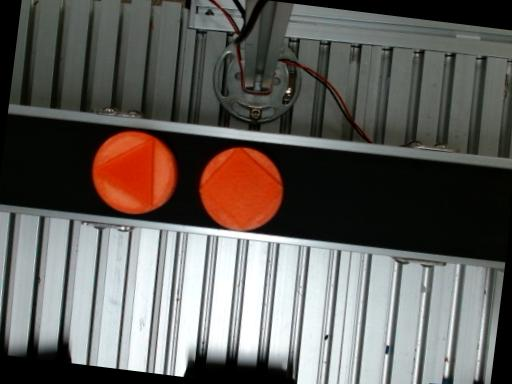Not_Square: (90, 138, 154, 210)
Orange_Waper: (93, 131, 178, 214), (200, 147, 284, 230)
Square: (197, 146, 284, 229)
